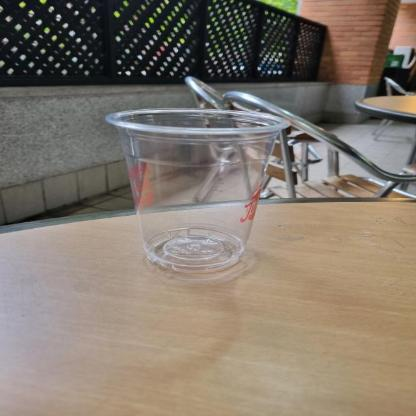Plastic Cup: (103, 103, 292, 277)
